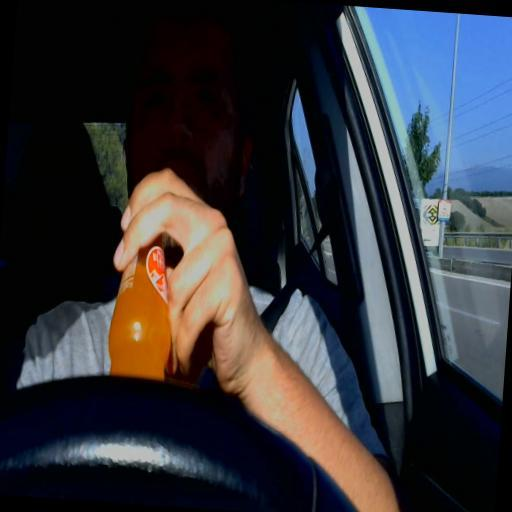Drinking: (109, 20, 254, 375)
